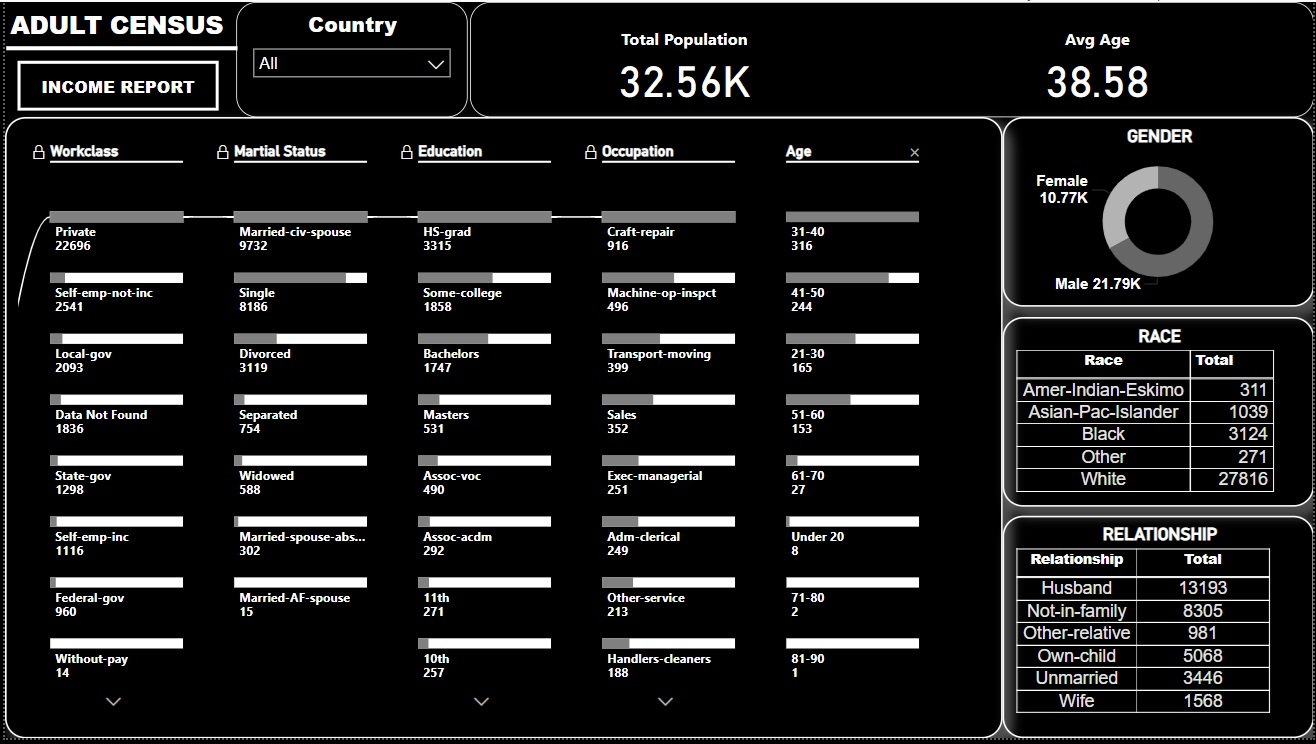

What the dashboard file says about the page in this screenshot:
{"tool":"powerbi","page":{"name":"Adult_Census","canvas":[1280,720],"ordinal":0},"visuals":[{"type":"textbox","box":[0,0,226.2,45.2],"z":0},{"type":"donutChart","title":"GENDER","fields":{"Category":["adult.Gender"],"Y":["CountNonNull(adult.Gender)"]},"box":[975.8,112.5,304.5,185.9],"z":1000},{"type":"decompositionTreeVisual","fields":{"Analyze":["CountNonNull(adult.age)"],"ExplainBy":["adult.workclass","adult.Martial Status","adult.education","adult.occupation","adult.Age_Bracket"]},"box":[0,112.5,975.8,607.7],"z":2000},{"type":"tableEx","title":"RACE","fields":{"Values":["adult.race","CountNonNull(adult.race)"]},"box":[975.8,307.5,304.5,185.9],"z":3000},{"type":"tableEx","title":"RELATIONSHIP","fields":{"Values":["adult.relationship","CountNonNull(adult.relationship)"]},"box":[975.8,502.3,304.5,217.7],"z":4000},{"type":"cardVisual","fields":{"Data":["CountNonNull(adult.Gender)","Avg(adult.age)"]},"box":[454.9,0,825.4,112.5],"z":5000},{"type":"slicer","title":"Country","fields":{"Values":["adult.native.country"]},"box":[226.2,0,226.2,112.5],"z":6000},{"type":"shape","box":[1.2,39.1,226.2,12.2],"z":7000},{"type":"actionButton","box":[12.2,57.5,196.9,48.9],"z":8000}]}

Visuals, with their boxes in screenshot pixels (x1, y1, x2, y2), scaled from the page's 1280x720 canvas onto the 1316x744 screenshot:
textbox: 0/0/233/47
"GENDER" donutChart: 1003/116/1315/308
decompositionTreeVisual - CountNonNull(adult.age) x adult.workclass: 0/116/1003/743
"RACE" tableEx: 1003/318/1315/510
"RELATIONSHIP" tableEx: 1003/519/1315/743
cardVisual - CountNonNull(adult.Gender) x Avg(adult.age): 468/0/1315/116
"Country" slicer: 233/0/465/116
shape: 1/40/234/53
actionButton: 13/59/215/110
